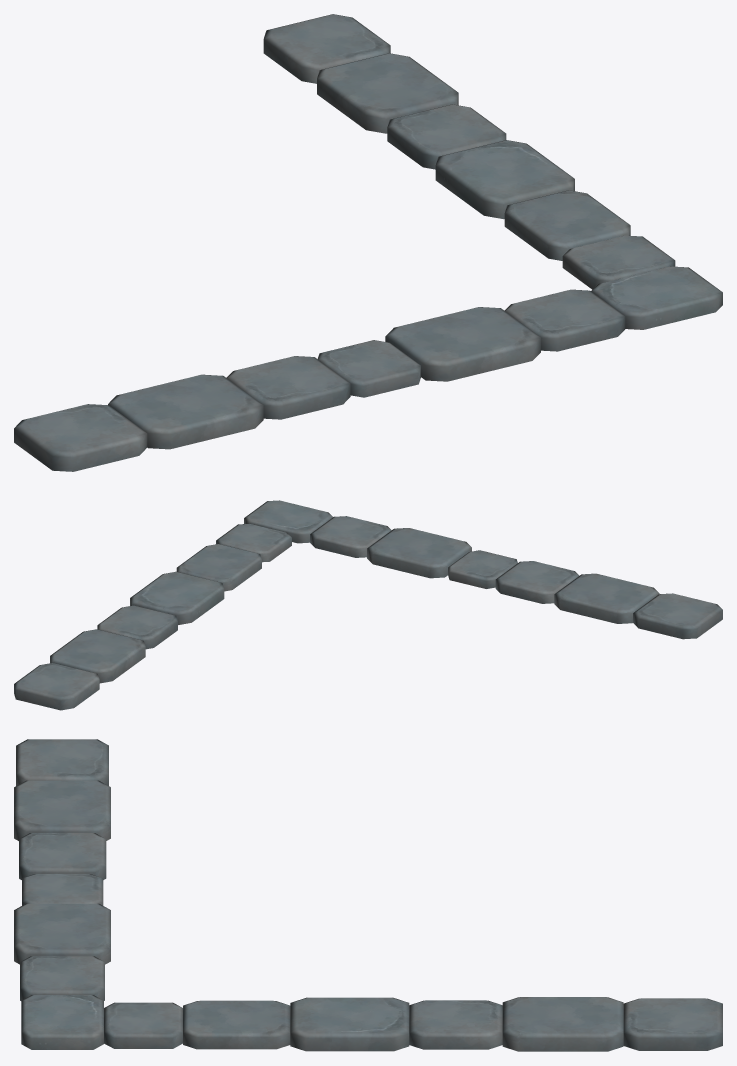
Rendered from bricks_stone_corner.fbx.
3 renders of one model, top to bottom at view 1: azimuth 30°, elevation 25°; view 2: azimuth 150°, elevation 25°; view 3: azimuth 270°, elevation 25°, orthographic. The views are drawn at different scales.
Parts seen in each view (by area): view 1: bricks_stone_corner; view 2: bricks_stone_corner; view 3: bricks_stone_corner.
Boxes of the visible parts, x1,y1,x2,y2 form: bricks_stone_corner: [14, 14, 722, 471]; bricks_stone_corner: [14, 500, 722, 710]; bricks_stone_corner: [14, 739, 722, 1051].
Size of the model in its own units: 322 by 8.15 by 322.
